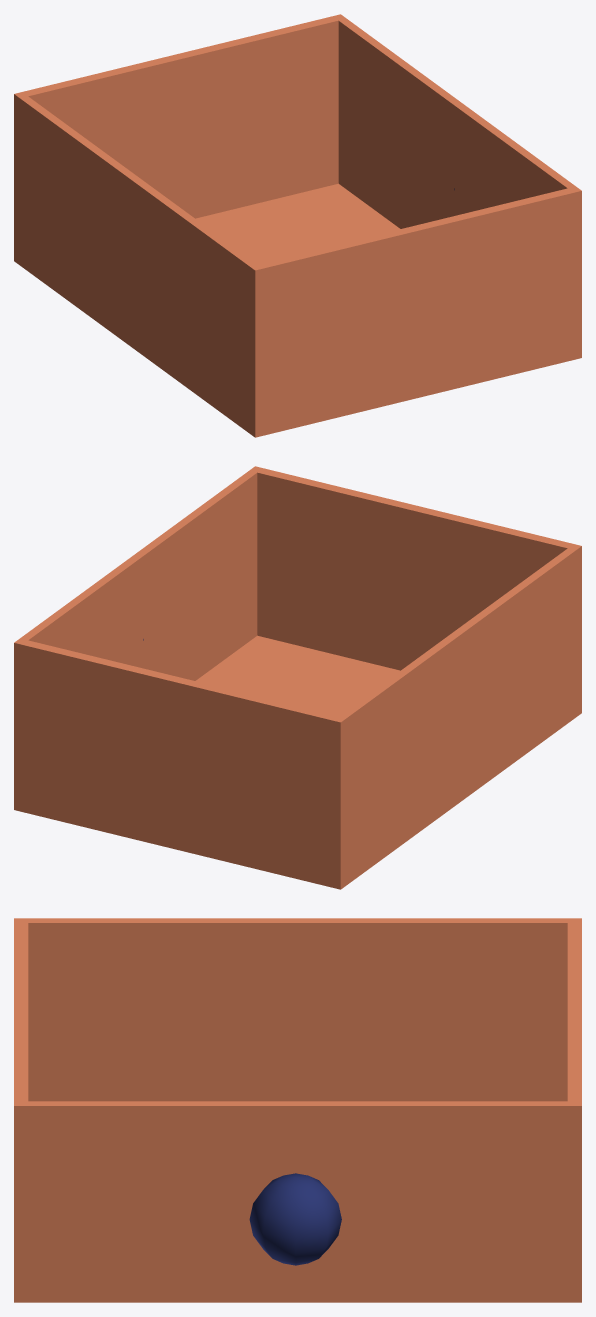
File: INNER DRAWER.fbx
3 views of the same model, one above another, from view 1: azimuth 30°, elevation 25°; view 2: azimuth 150°, elevation 25°; view 3: azimuth 270°, elevation 25° (orthographic). The views are drawn at different scales.
Parts seen in each view (by area): view 1: innerdrawer; view 2: innerdrawer; view 3: innerdrawer, Sphere.
Part boxes in pixels (x1,y1,x2,y2): innerdrawer: (14,14,581,437); innerdrawer: (14,466,581,889); innerdrawer: (14,918,581,1302); Sphere: (249,1173,341,1265).
Bounding box in the file's own units: 172 × 71.07 × 186.
